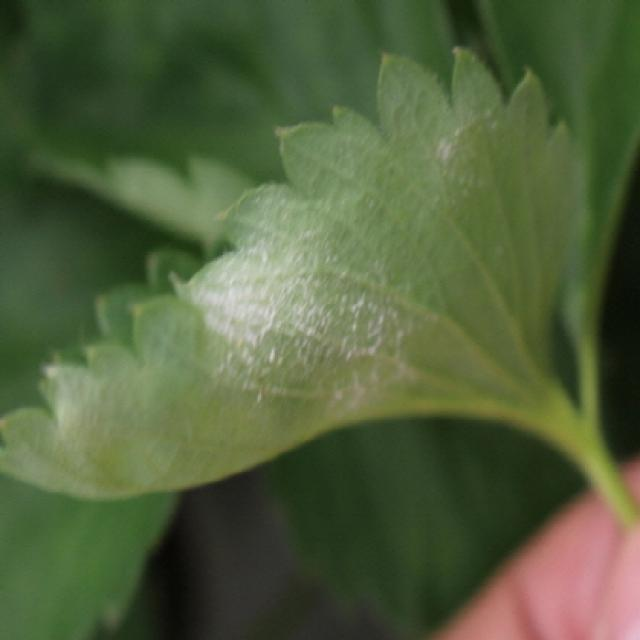Powdery Mildew Leaf: (0, 47, 585, 500)
